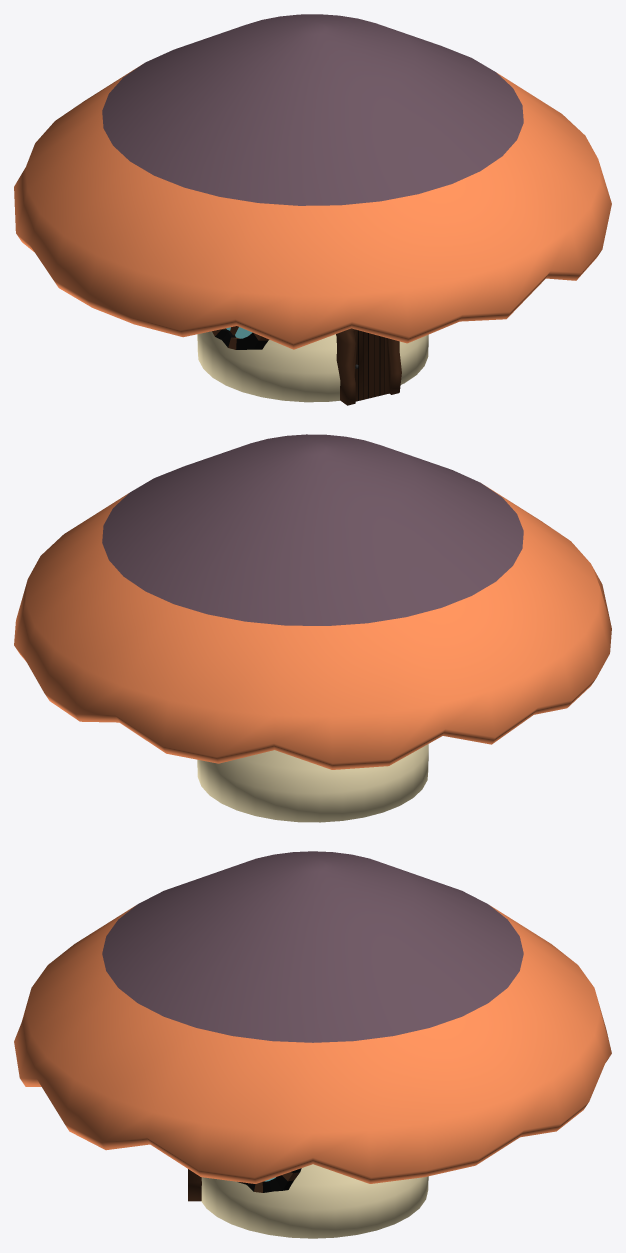
Rendered from MainCharacter'sHouse.fbx.
The picture shows the model from 3 angles, top to bottom: view 1: azimuth 30°, elevation 25°; view 2: azimuth 150°, elevation 25°; view 3: azimuth 270°, elevation 25°; orthographic projection.
Parts seen in each view (by area): view 1: Cylinder; view 2: Cylinder; view 3: Cylinder.
Part boxes in pixels (box(x1,y1,x2,y2)): Cylinder: box(14, 14, 611, 405); Cylinder: box(14, 434, 611, 822); Cylinder: box(14, 851, 611, 1238).
Size of the model in its own units: 1386 by 828 by 1386.
